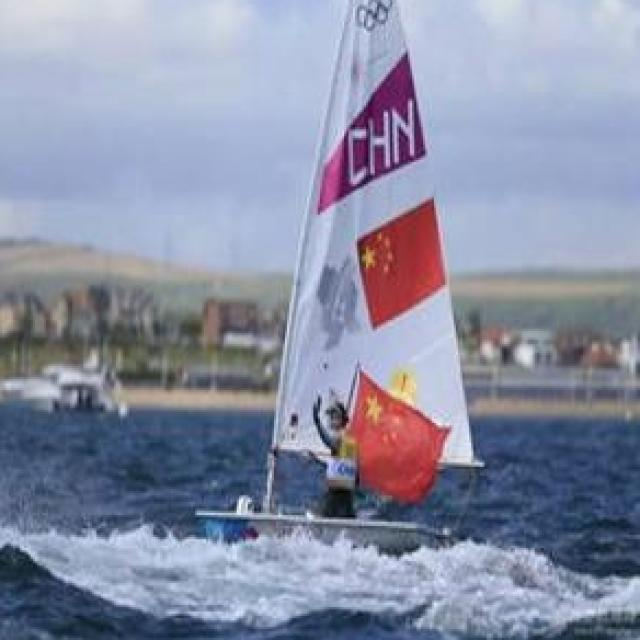sailboat: (193, 0, 475, 546)
